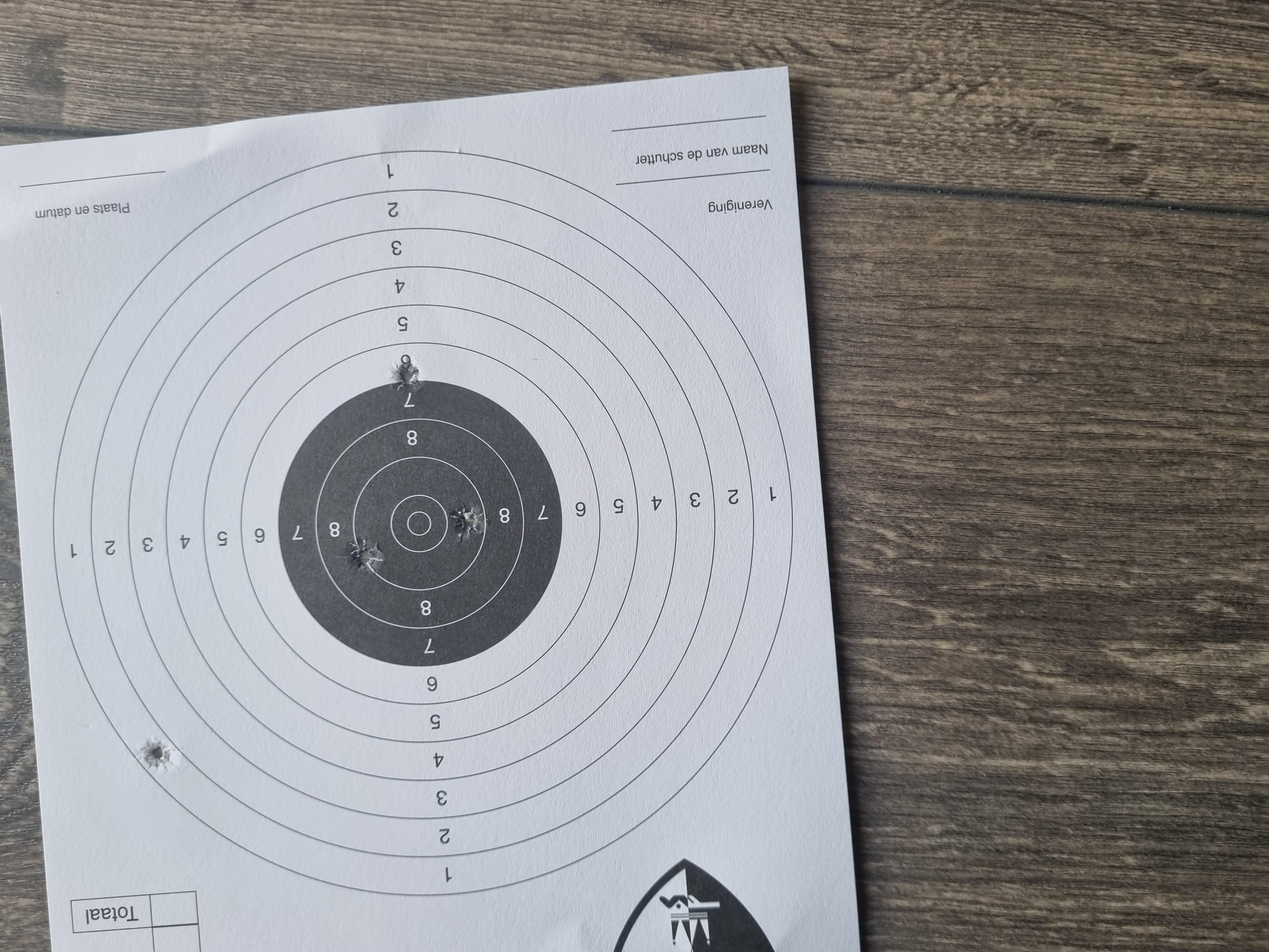hole: (241, 104, 287, 132), (505, 260, 549, 287), (547, 338, 595, 362), (749, 293, 787, 314)
